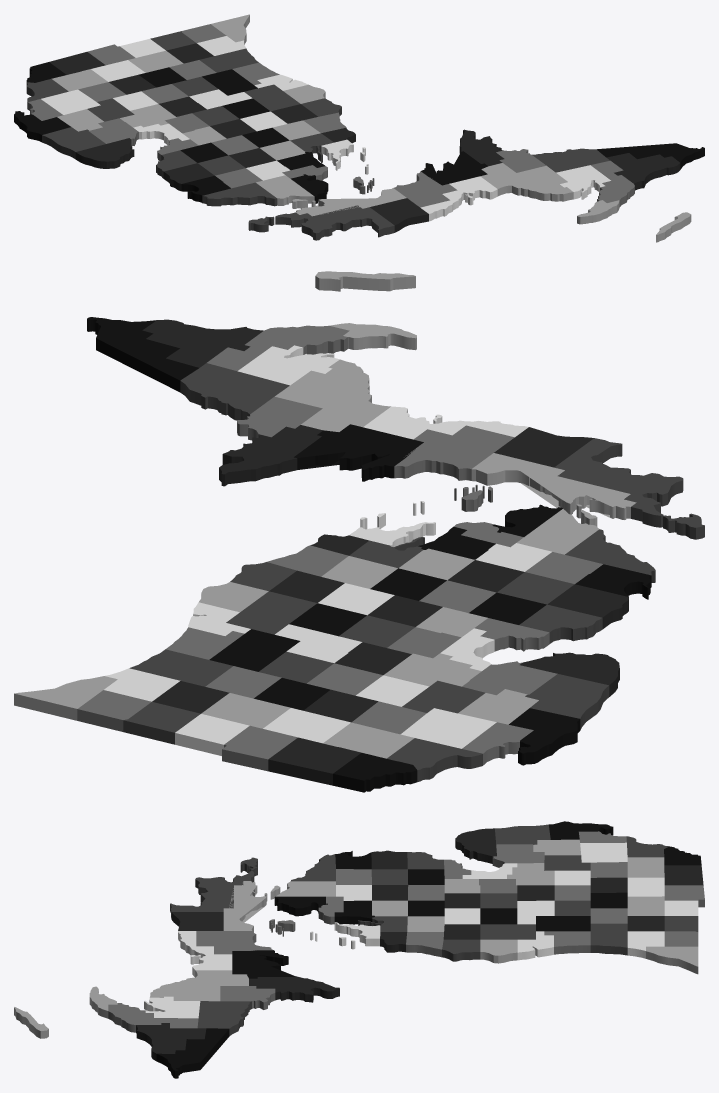
The model's file is Michigan_Counties_3D.fbx.
3 views of the same model, one above another, from view 1: azimuth 30°, elevation 25°; view 2: azimuth 150°, elevation 25°; view 3: azimuth 270°, elevation 25° (orthographic). The views are drawn at different scales.
Parts seen in each view (by area): view 1: MI_Chippewa_County_3D, MI_Marquette_County_3D, MI_Ontonagon_County_3D, MI_Alger_County_3D, MI_Mackinac_County_3D, MI_Gogebic_County_3D, MI_Huron_County_3D, MI_Presque_Isle_County_3D, MI_Delta_County_3D, MI_Schoolcraft_County_3D, MI_Sanilac_County_3D, MI_Iron_County_3D (+70 smaller); view 2: MI_Chippewa_County_3D, MI_Mackinac_County_3D, MI_Marquette_County_3D, MI_Delta_County_3D, MI_Schoolcraft_County_3D, MI_Gogebic_County_3D, MI_Iron_County_3D, MI_Menominee_County_3D, MI_Keweenaw_County_3D, MI_Ontonagon_County_3D, MI_Houghton_County_3D, MI_Lenawee_County_3D (+70 smaller); view 3: MI_Marquette_County_3D, MI_Chippewa_County_3D, MI_Gogebic_County_3D, MI_Mackinac_County_3D, MI_Menominee_County_3D, MI_Ontonagon_County_3D, MI_Iron_County_3D, MI_Delta_County_3D, MI_Houghton_County_3D, MI_Schoolcraft_County_3D, MI_Alger_County_3D, MI_Allegan_County_3D (+70 smaller).
Part boxes in pixels (bbox=[...]): MI_Chippewa_County_3D: bbox=[248, 205, 394, 240]; MI_Marquette_County_3D: bbox=[480, 163, 573, 201]; MI_Ontonagon_County_3D: bbox=[606, 153, 680, 190]; MI_Alger_County_3D: bbox=[420, 176, 497, 221]; MI_Mackinac_County_3D: bbox=[292, 188, 406, 216]; MI_Gogebic_County_3D: bbox=[597, 143, 704, 169]; MI_Huron_County_3D: bbox=[75, 138, 134, 168]; MI_Presque_Isle_County_3D: bbox=[202, 182, 277, 206]; MI_Delta_County_3D: bbox=[421, 151, 487, 185]; MI_Schoolcraft_County_3D: bbox=[394, 171, 457, 207]; MI_Sanilac_County_3D: bbox=[42, 127, 105, 159]; MI_Iron_County_3D: bbox=[532, 148, 609, 172]; MI_Chippewa_County_3D: bbox=[554, 438, 704, 539]; MI_Mackinac_County_3D: bbox=[471, 453, 636, 526]; MI_Marquette_County_3D: bbox=[275, 359, 390, 431]; MI_Delta_County_3D: bbox=[294, 424, 423, 481]; MI_Schoolcraft_County_3D: bbox=[394, 425, 514, 480]; MI_Gogebic_County_3D: bbox=[87, 317, 198, 392]; MI_Iron_County_3D: bbox=[180, 363, 289, 420]; MI_Menominee_County_3D: bbox=[219, 425, 322, 486]; MI_Keweenaw_County_3D: bbox=[315, 271, 416, 350]; MI_Ontonagon_County_3D: bbox=[142, 319, 263, 367]; MI_Houghton_County_3D: bbox=[207, 325, 349, 370]; MI_Lenawee_County_3D: bbox=[268, 737, 361, 785]; MI_Marquette_County_3D: bbox=[150, 970, 248, 1001]; MI_Chippewa_County_3D: bbox=[170, 857, 257, 918]; MI_Gogebic_County_3D: bbox=[156, 1028, 229, 1078]; MI_Mackinac_County_3D: bbox=[223, 881, 280, 932]; MI_Menominee_County_3D: bbox=[249, 976, 339, 1002]; MI_Ontonagon_County_3D: bbox=[136, 1023, 206, 1061]; MI_Iron_County_3D: bbox=[197, 1001, 251, 1036]; MI_Delta_County_3D: bbox=[232, 950, 294, 978]; MI_Houghton_County_3D: bbox=[108, 1003, 198, 1032]; MI_Schoolcraft_County_3D: bbox=[196, 931, 273, 954]; MI_Alger_County_3D: bbox=[178, 931, 232, 977]; MI_Allegan_County_3D: bbox=[590, 923, 627, 955].
Size of the model in its own units: 692 by 10 by 810.
